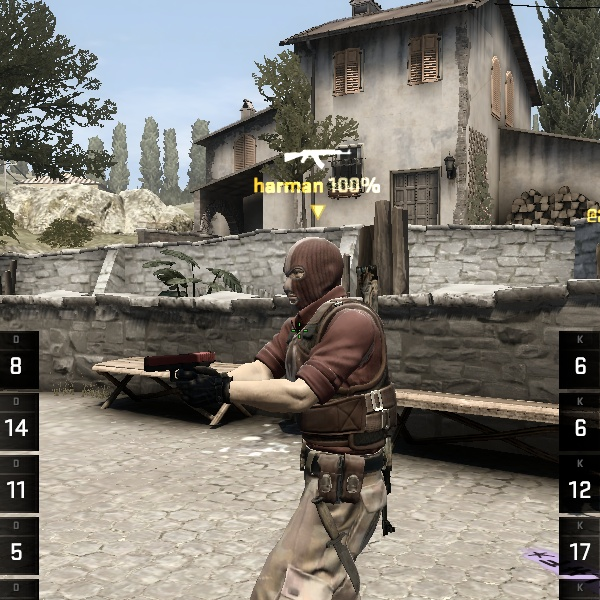t_body: (222, 224, 419, 577)
t_head: (261, 223, 368, 326)
